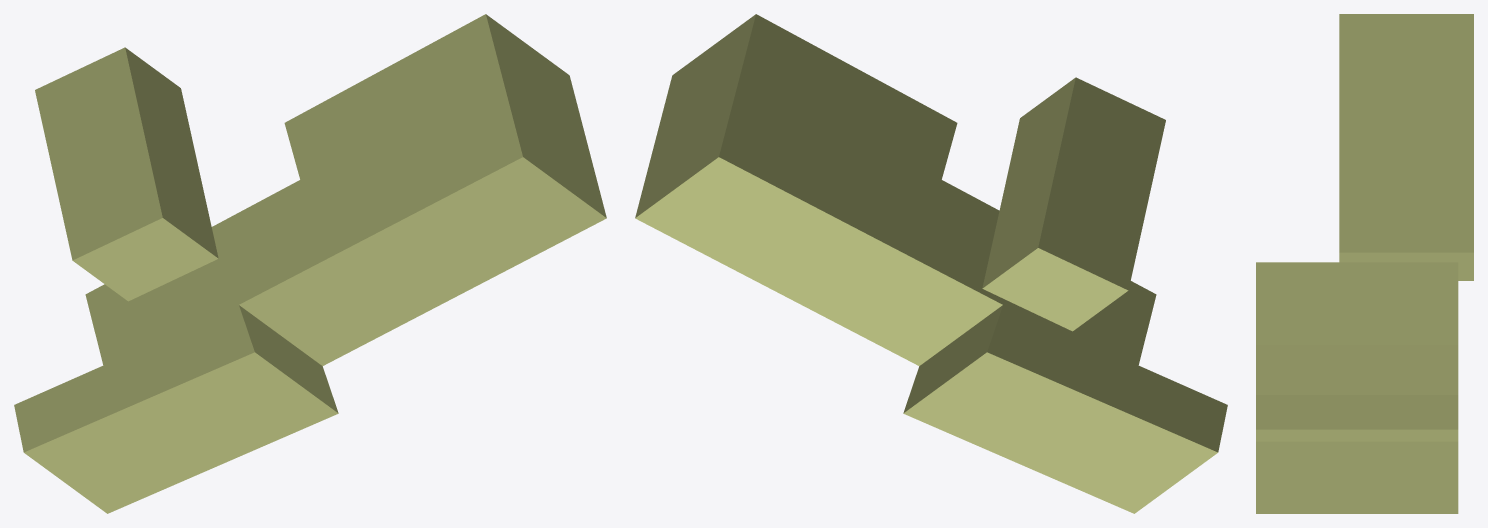
3 renders of one model, left to right at view 1: azimuth 30°, elevation 25°; view 2: azimuth 150°, elevation 25°; view 3: azimuth 270°, elevation 25°, orthographic. The views are drawn at different scales.
Parts seen in each view (by area): view 1: 0_1_0_2_0_1_3_0; view 2: 0_1_0_2_0_1_3_0; view 3: 0_1_0_2_0_1_3_0.
Boxes of the visible parts, x1,y1,x2,y2 form: 0_1_0_2_0_1_3_0: [14, 14, 606, 513]; 0_1_0_2_0_1_3_0: [635, 14, 1227, 513]; 0_1_0_2_0_1_3_0: [1256, 14, 1473, 513].
Bounding box in the file's own units: 31.55 × 22.16 × 9.7.
